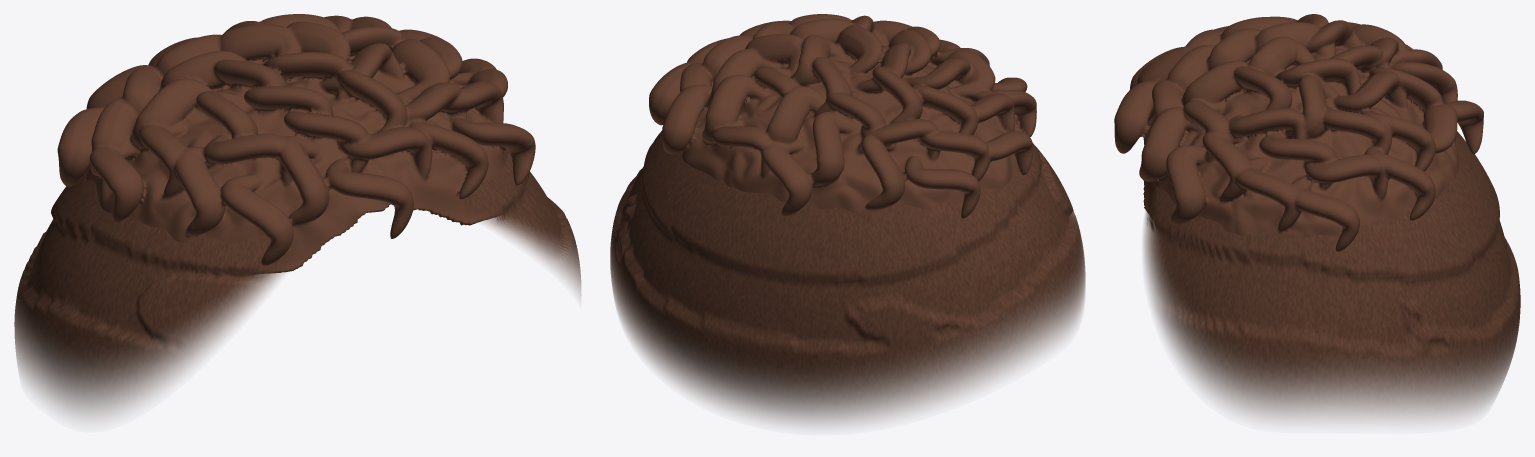
Rendered from Masculine-curly-top-headband252-hair.glb.
3 renders of one model, left to right at view 1: azimuth 30°, elevation 25°; view 2: azimuth 150°, elevation 25°; view 3: azimuth 270°, elevation 25°, orthographic. The views are drawn at different scales.
Parts seen in each view (by area): view 1: 226 hair / Hair252 / sculpted curl groups.001, 226 hair / Hair252 / curly close fade coverage.001; view 2: 226 hair / Hair252 / curly close fade coverage.001, 226 hair / Hair252 / sculpted curl groups.001; view 3: 226 hair / Hair252 / curly close fade coverage.001, 226 hair / Hair252 / sculpted curl groups.001.
Part boxes in pixels (bbox=[...]): 226 hair / Hair252 / sculpted curl groups.001: bbox=[57, 14, 535, 273]; 226 hair / Hair252 / curly close fade coverage.001: bbox=[14, 152, 580, 418]; 226 hair / Hair252 / curly close fade coverage.001: bbox=[610, 130, 1085, 425]; 226 hair / Hair252 / sculpted curl groups.001: bbox=[649, 14, 1036, 218]; 226 hair / Hair252 / curly close fade coverage.001: bbox=[1143, 131, 1520, 420]; 226 hair / Hair252 / sculpted curl groups.001: bbox=[1114, 14, 1483, 251].
Size of the model in its own units: 0.976 by 0.7233 by 0.762.
Materials: 2 (1 with a texture image).
